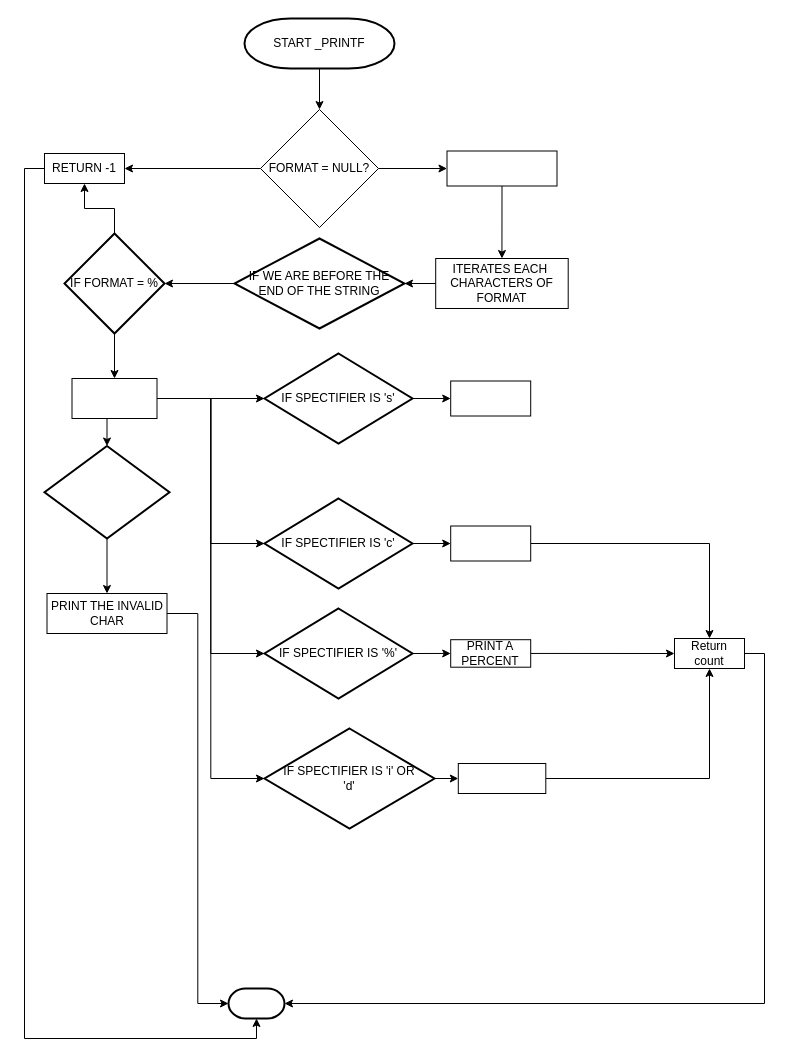
The diagram is 790 pixels wide and 1064 high, and some of its shapes have lost their labels. Each missing label, with the centre of its shape:
"END" belongs at (x=256, y=1003).
"IF THE FORMAT SPECTIFIER" belongs at (x=106, y=491).
"INITIALIZE ARGUMENTS" belongs at (x=501, y=168).
"PRINT A CHARACTER" belongs at (x=490, y=543).
"PRINT A INTERGER" belongs at (x=501, y=778).
"PRINT A STRING" belongs at (x=490, y=398).
"READ THE NEXT CHARACTER" belongs at (x=114, y=398).
